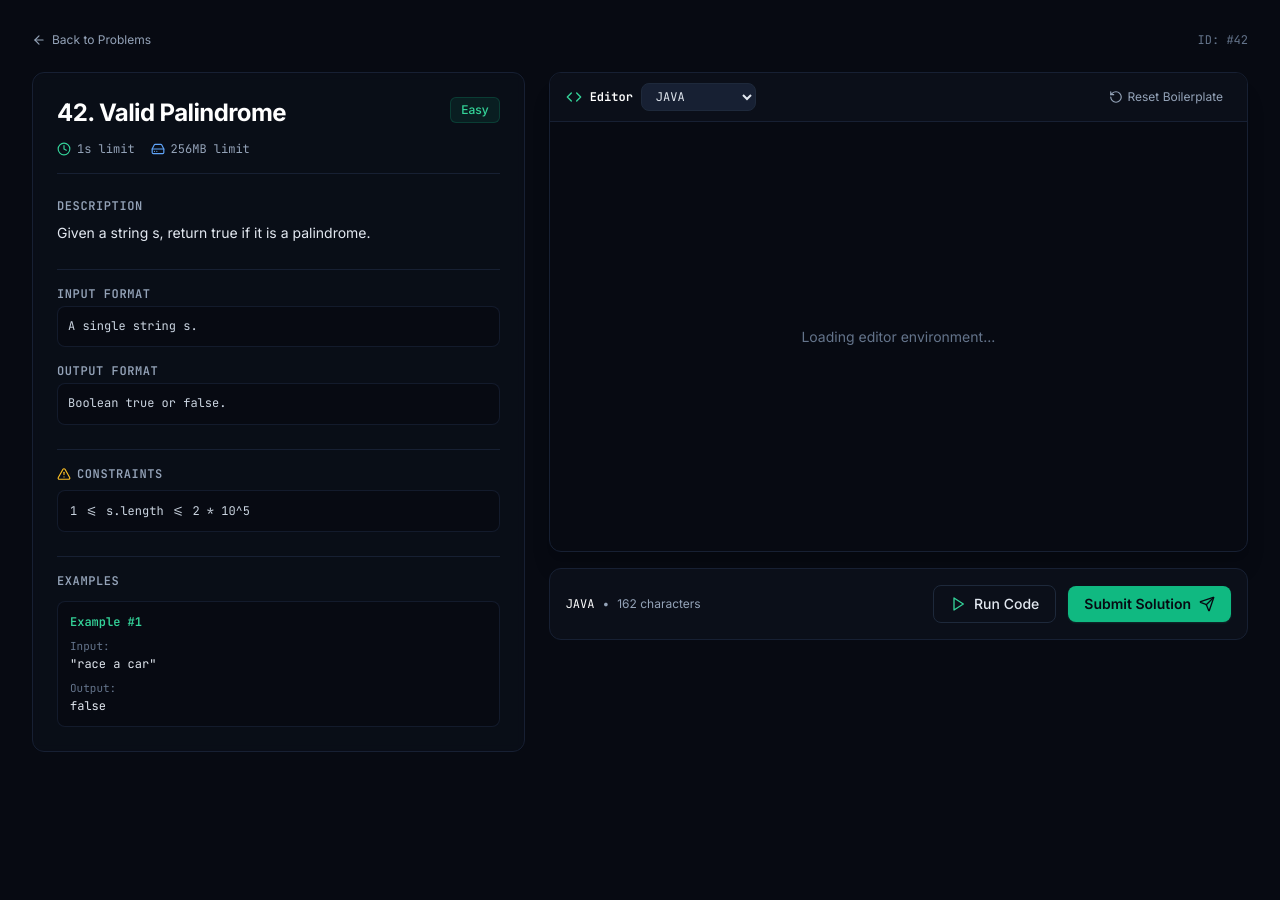
it: ProblemDetailPage Component Tests › submits solution when authenticated and renders PENDING intake status
Click the button "Submit Solution" at (1150, 604), box [1068,586,1231,622]
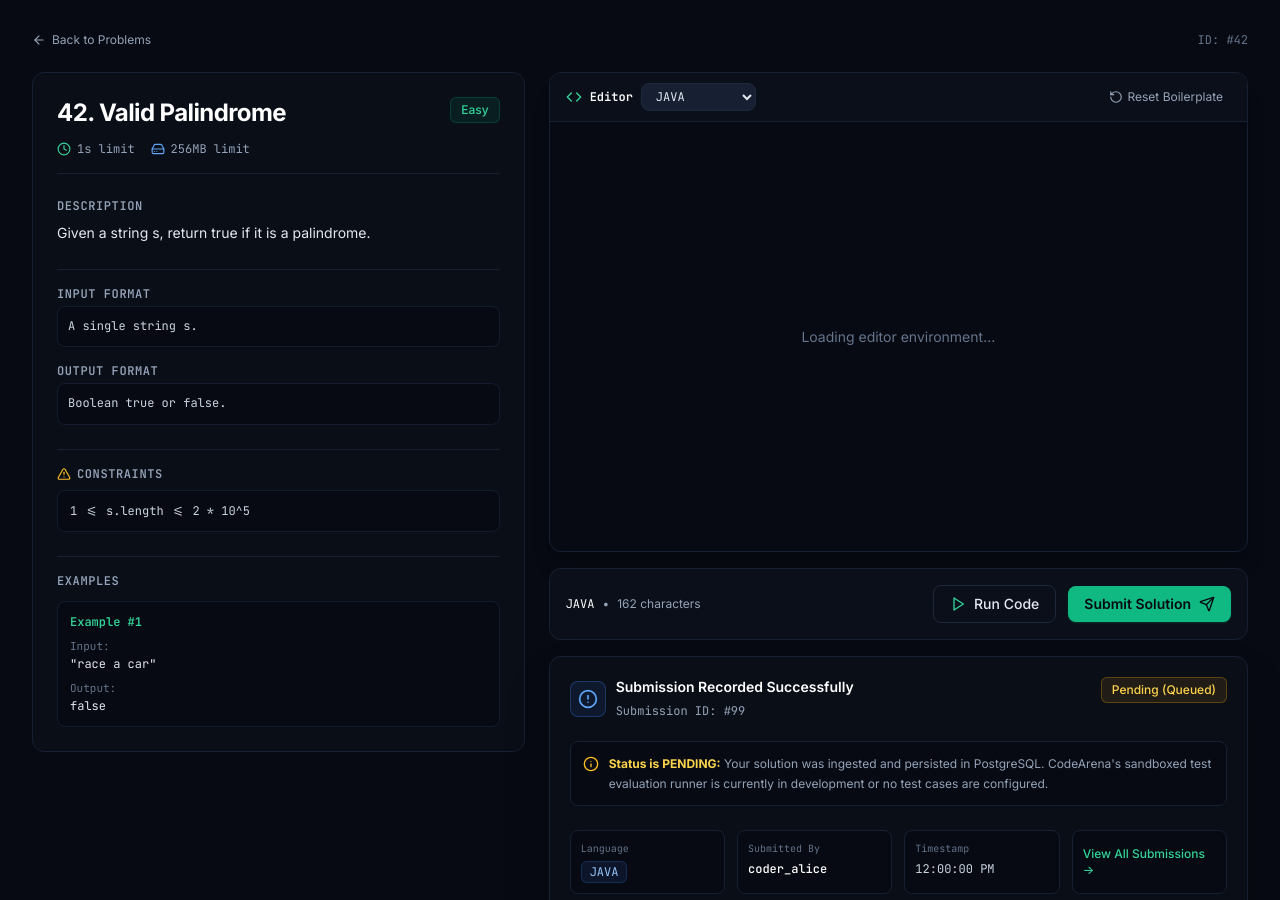
Expected: the heading "Submission Recorded Successfully" is shown, [616,677,854,697]
Expected: the text "Submission ID: #99" is shown, [616,703,745,719]
Expected: the text "Status is PENDING:" is shown, [609,756,721,771]
